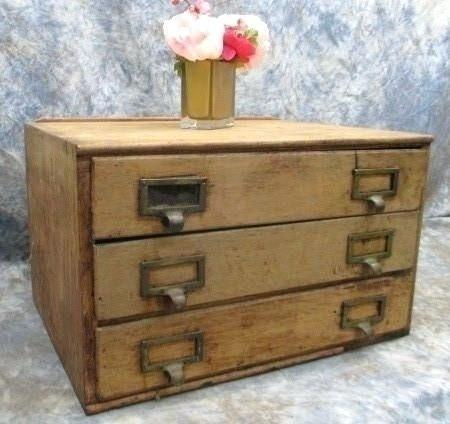cabinet_door: (95, 155, 423, 230), (97, 291, 410, 367), (96, 230, 419, 300)
handle: (157, 206, 190, 234), (158, 360, 187, 390), (351, 315, 379, 345), (357, 253, 387, 280), (363, 191, 390, 214)
